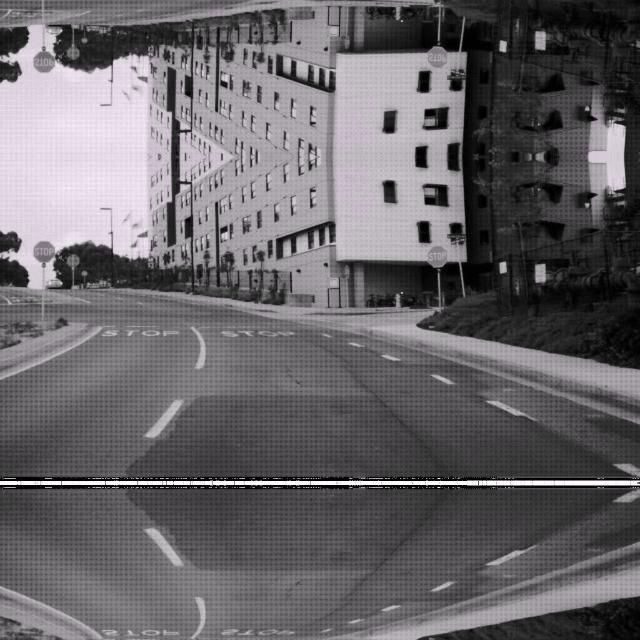stop: (32, 239, 54, 261), (32, 51, 54, 73), (426, 244, 446, 266), (426, 46, 446, 68)
